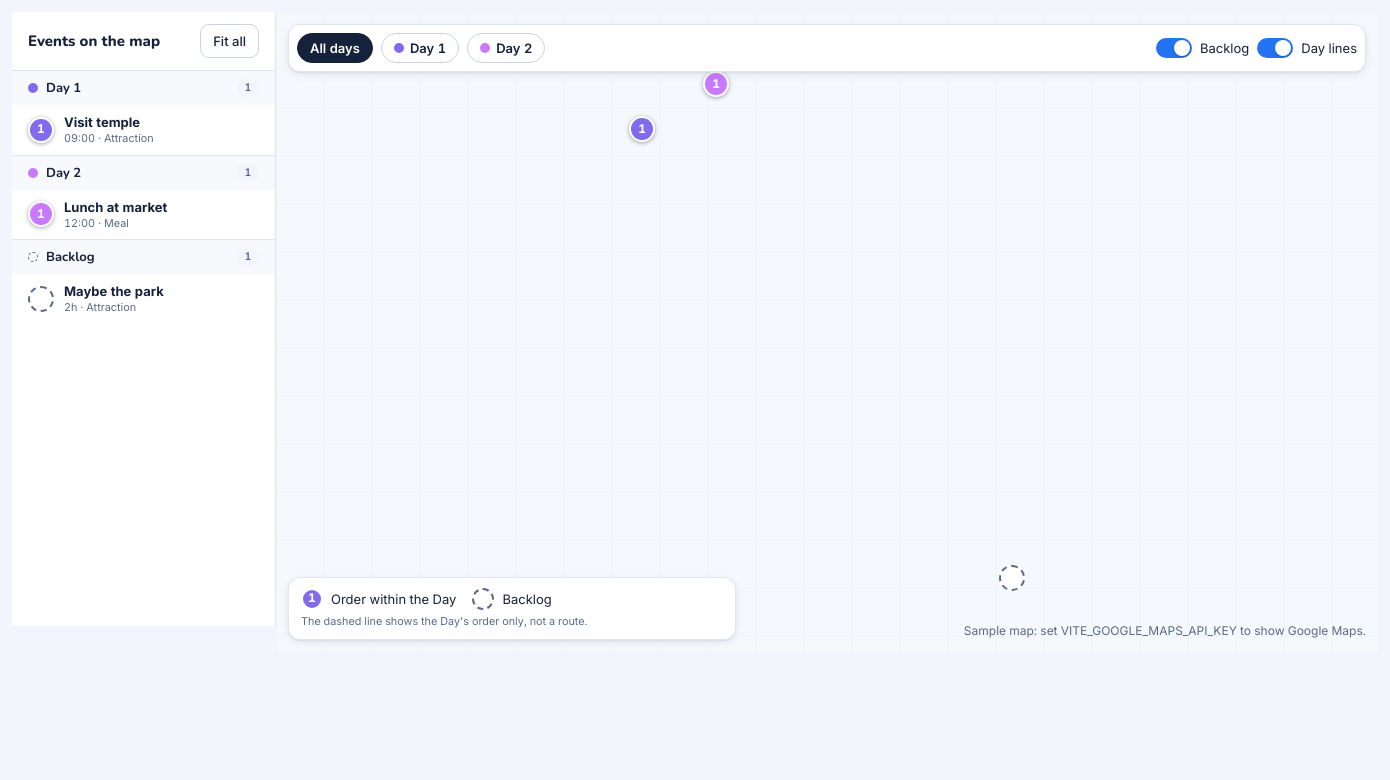
Test: Map View › can leave the Backlog out
Check: the button named "Maybe the park" is shown, box [999,565,1025,595]
Click the switch labelled "Backlog". click: x=1174, y=48
box: [1156,38,1192,58]
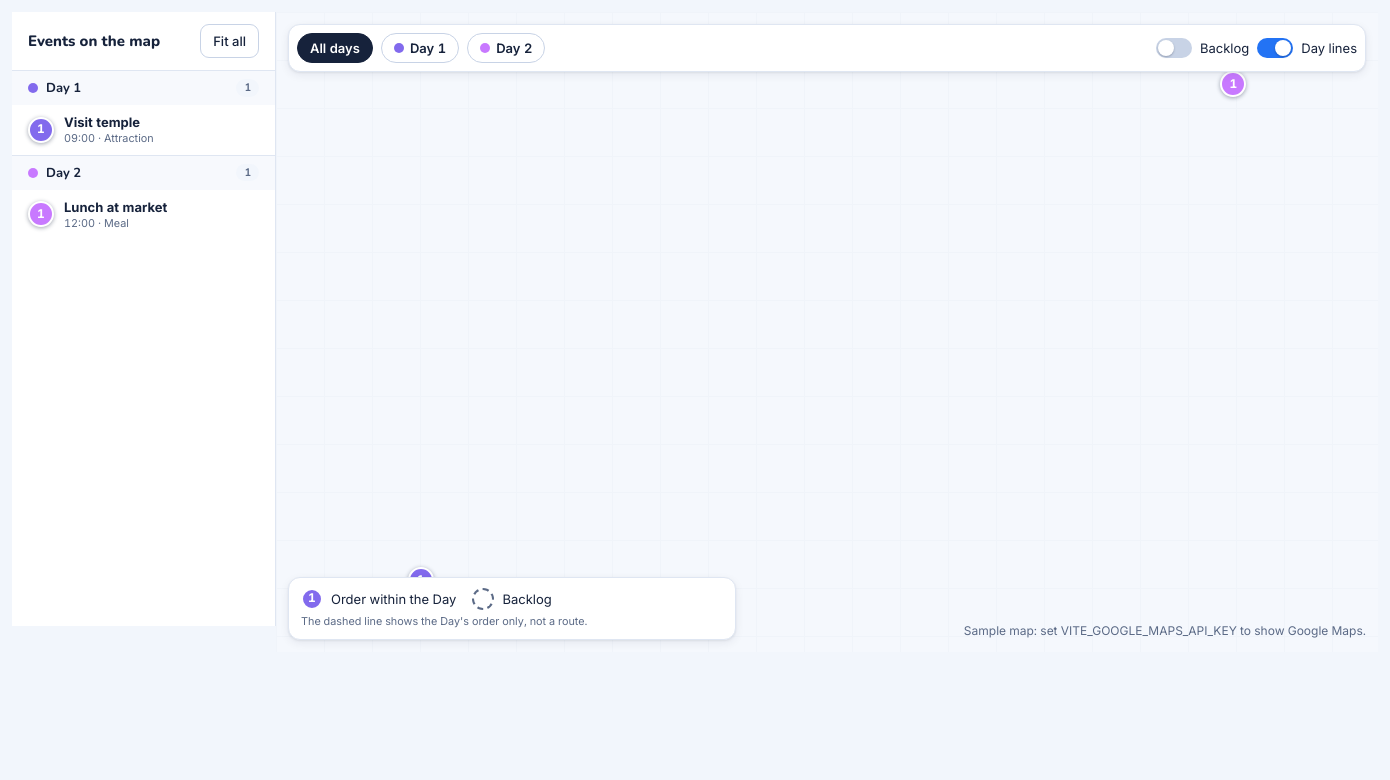
Check: the button "Maybe the park" is gone
